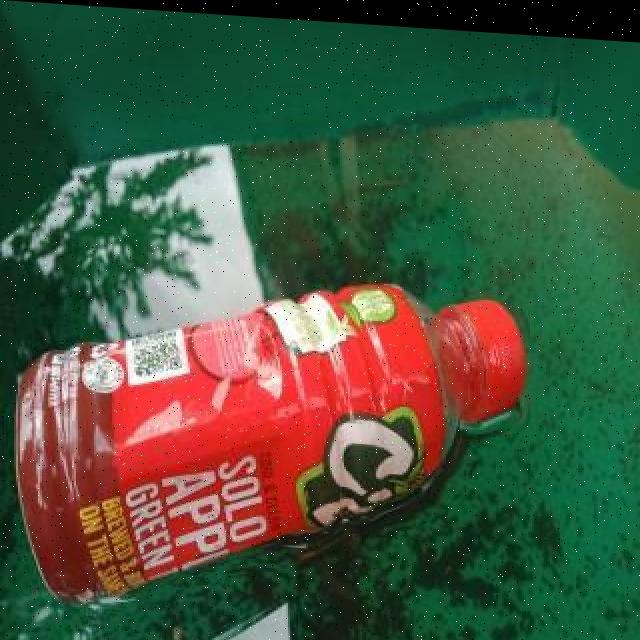bottle: (12, 256, 530, 631)
